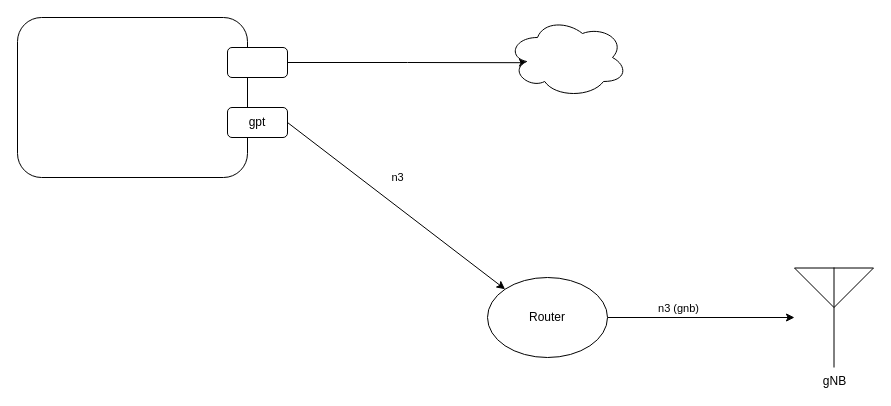
The diagram is 891 pixels wide and 406 high, and some of its shapes have lost their labels. The centre of each missing label's shape, as x and y in pixels:
mgt: point 257,62
VM Amari software: point 132,97
